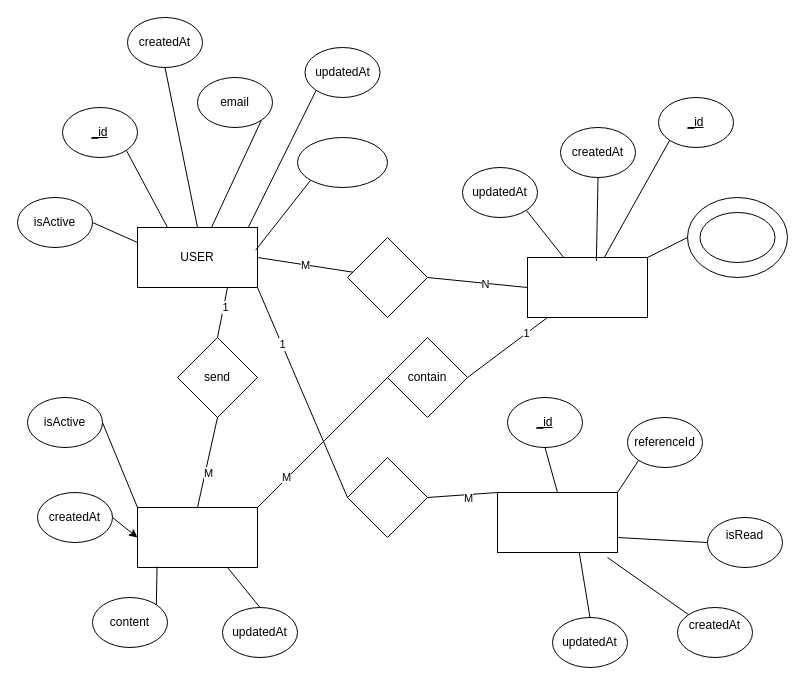
Image size: 805x685. Some labels were removed from this diagram. Each missing label, with the centre of its shape:
"CONVERSATION" belongs at (x=587, y=287).
"Message" belongs at (x=197, y=537).
"NOTIFICATION" belongs at (x=557, y=522).
"partcipate in" belongs at (x=387, y=277).
"participants" belongs at (x=737, y=237).
"passwordHash" belongs at (x=342, y=162).
"receives" belongs at (x=387, y=497).
